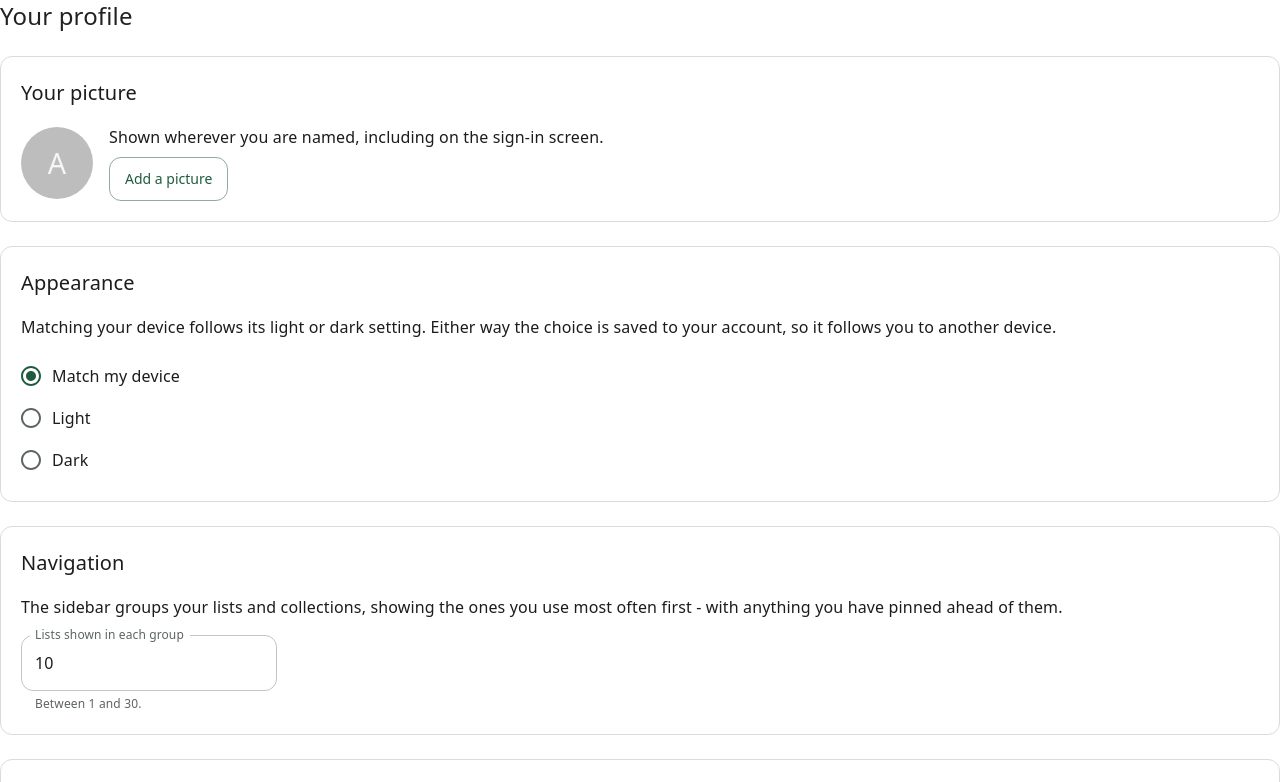
it: ProfilePage › selects the chosen scheme at once, rather than after a round trip
What coordinates should you click on to do the following:
click the radio button labelled "Dark"
I would click on:
 (54, 460)
Its box is top-left (19, 448), bottom-right (88, 472).
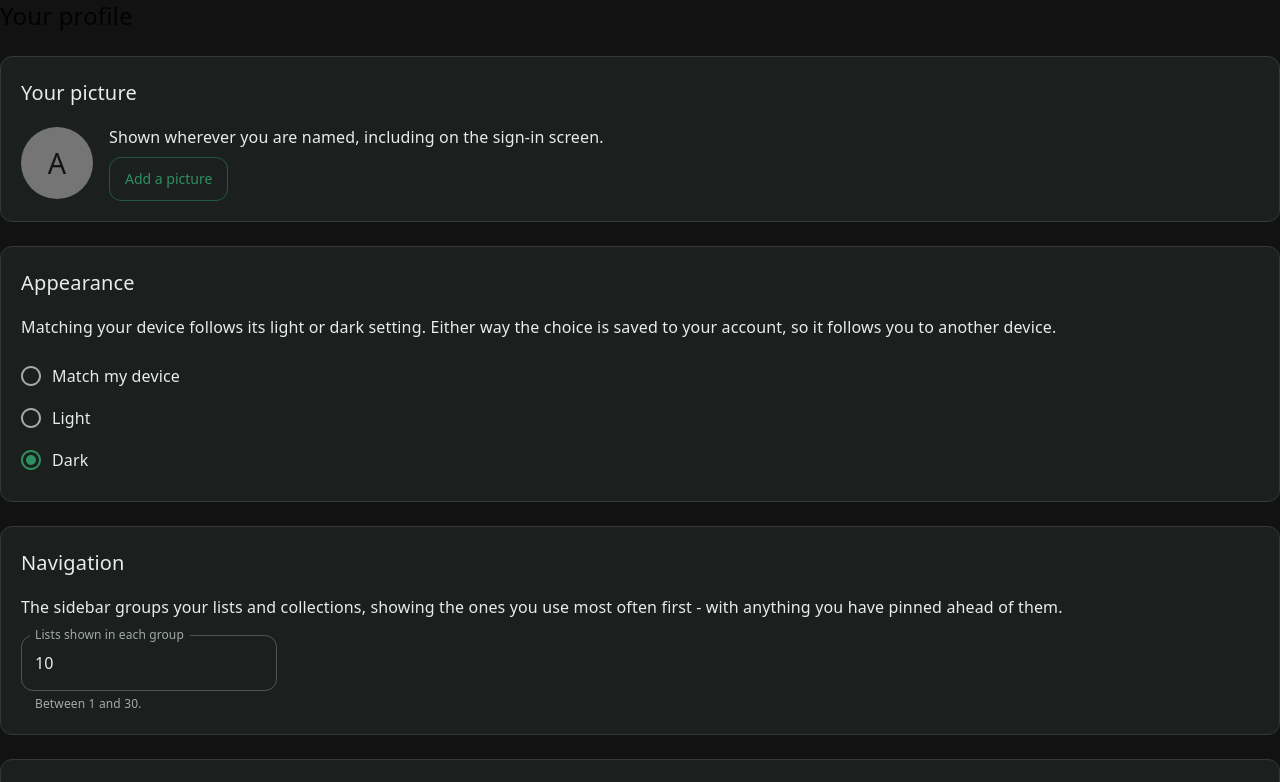
Result: the radio button labelled "Dark" is checked at top-left (19, 448), bottom-right (88, 472)
